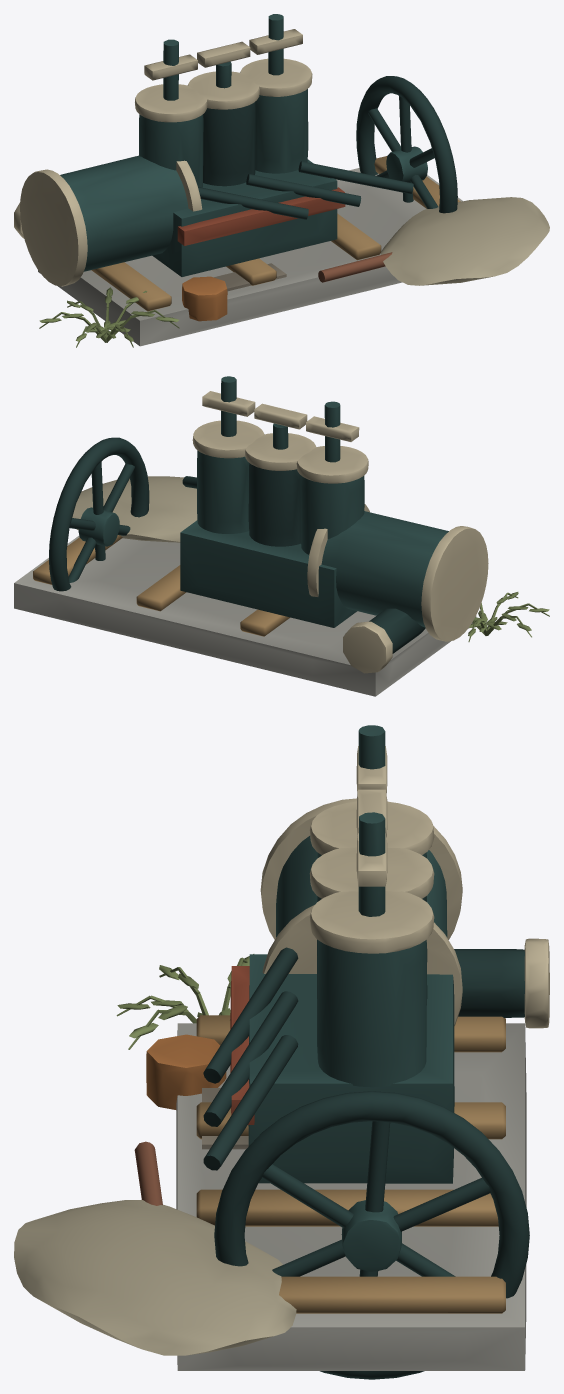
File: pump_engine_b_lod1.glb
3 renders of one model, top to bottom at view 1: azimuth 30°, elevation 25°; view 2: azimuth 150°, elevation 25°; view 3: azimuth 270°, elevation 25°, orthographic. The views are drawn at different scales.
Parts seen in each view (by area): view 1: Surface.001; view 2: Surface.001; view 3: Surface.001.
Part boxes in pixels (bbox=[...]): Surface.001: bbox=[14, 14, 549, 347]; Surface.001: bbox=[14, 376, 549, 696]; Surface.001: bbox=[14, 725, 549, 1379].
Bounding box in the file's own units: 9.28 × 4.83 × 5.2.
